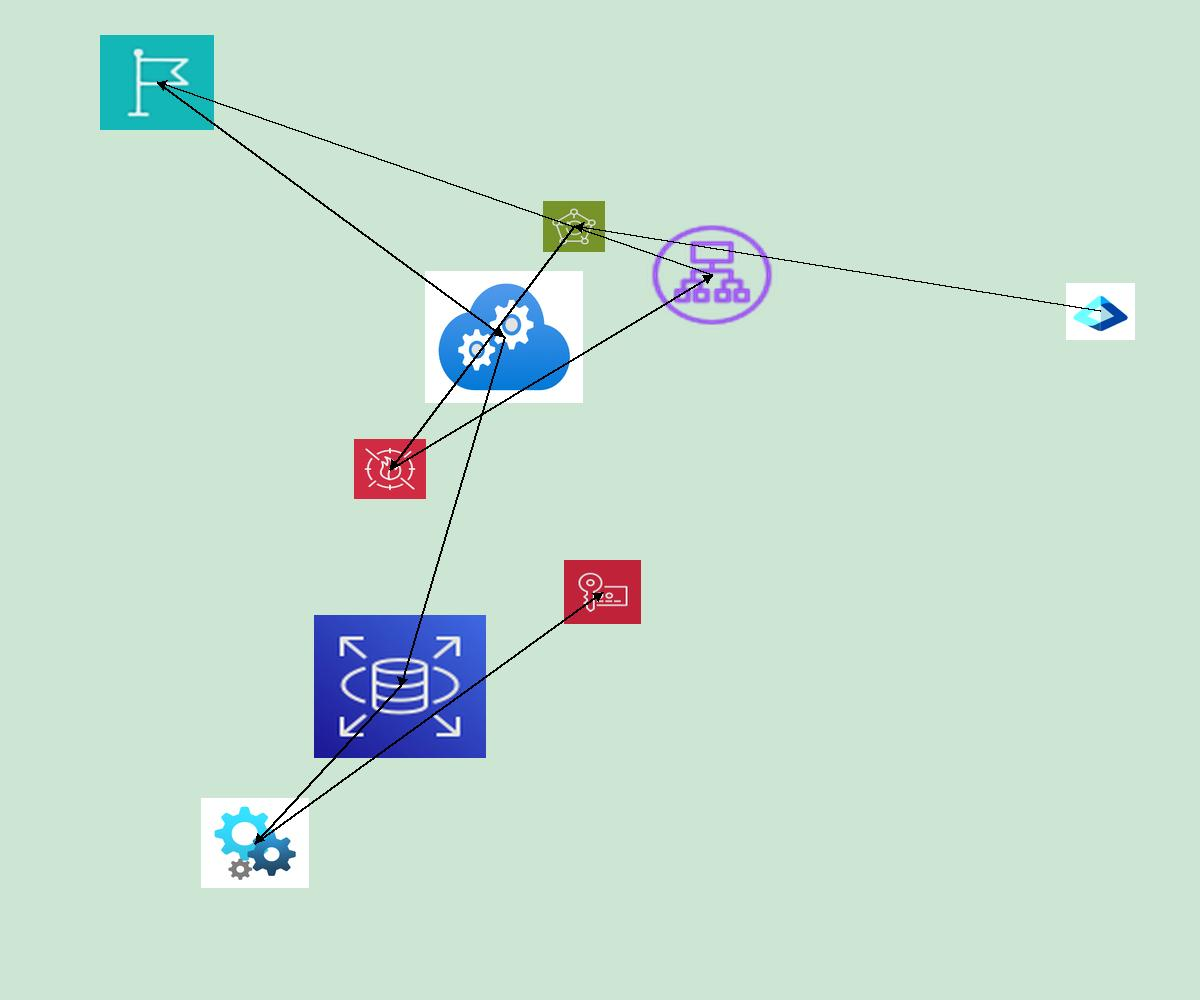AWS-Backup: (543, 201, 605, 252)
AWS-Key-Management-Service: (564, 560, 641, 624)
AWS-RDS: (314, 615, 486, 758)
AWS-Region: (100, 35, 214, 130)
AWS-Res_Elastic-Load-Balancing_Application-Load-Balancer: (647, 221, 777, 329)
AWS-WAF: (354, 439, 426, 499)
Azure_api: (201, 798, 309, 888)
Azure_cloud_services: (425, 271, 583, 403)
Azure_microsoft_entra: (1066, 283, 1135, 340)
